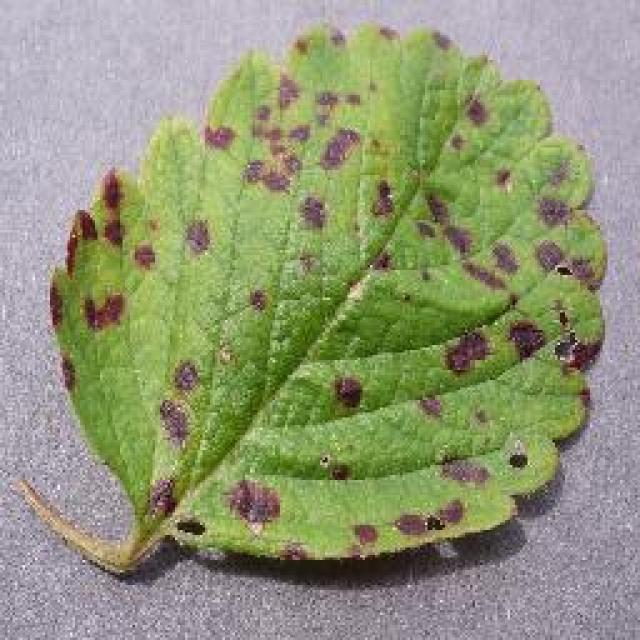Strawberry leaf scorch: (82, 73, 558, 522)
